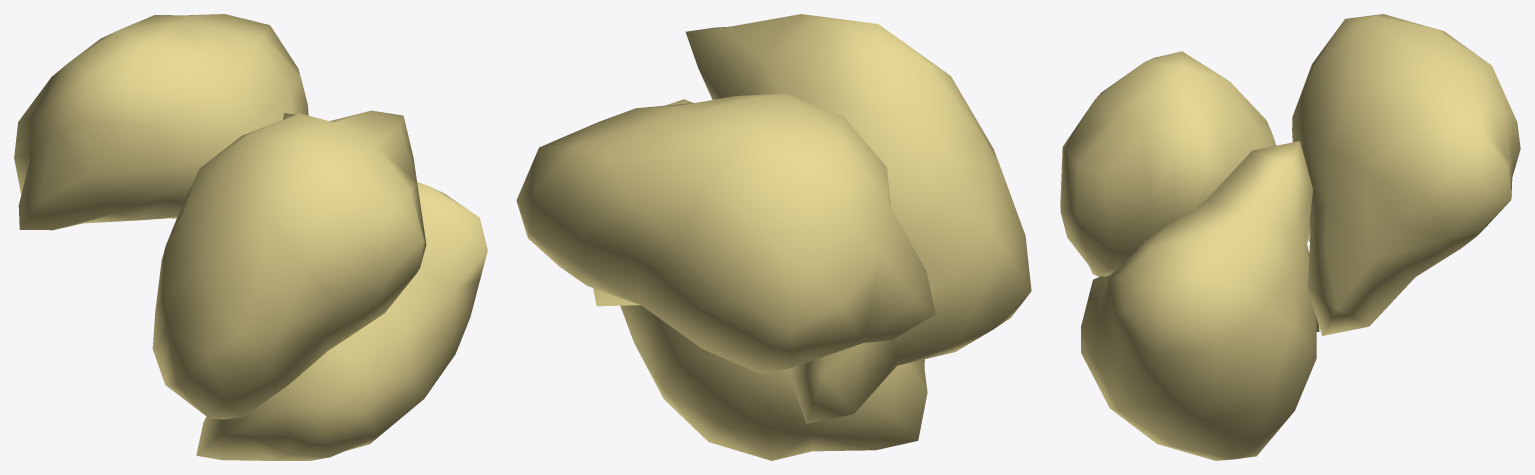
The model's file is 1stp.obj.
3 views of the same model, side by side, from view 1: azimuth 30°, elevation 25°; view 2: azimuth 150°, elevation 25°; view 3: azimuth 270°, elevation 25° (orthographic). The views are drawn at different scales.
Parts seen in each view (by area): view 1: 1stp_surfaces_3.A, 1stp_surfaces_4.A, 1stp_surfaces_2.A; view 2: 1stp_surfaces_4.A, 1stp_surfaces_3.A, 1stp_surfaces_2.A; view 3: 1stp_surfaces_2.A, 1stp_surfaces_4.A, 1stp_surfaces_3.A.
Boxes of the visible parts, x1=… form: 1stp_surfaces_3.A: x1=152, y1=110, x2=426, y2=419; 1stp_surfaces_4.A: x1=14, y1=14, x2=308, y2=230; 1stp_surfaces_2.A: x1=196, y1=113, x2=487, y2=460; 1stp_surfaces_4.A: x1=516, y1=93, x2=935, y2=373; 1stp_surfaces_3.A: x1=685, y1=14, x2=1031, y2=423; 1stp_surfaces_2.A: x1=620, y1=99, x2=927, y2=460; 1stp_surfaces_2.A: x1=1081, y1=141, x2=1316, y2=460; 1stp_surfaces_4.A: x1=1292, y1=14, x2=1520, y2=335; 1stp_surfaces_3.A: x1=1060, y1=51, x2=1319, y2=331.
Bounding box in the file's own units: 51.84 × 50.07 × 54.24.
